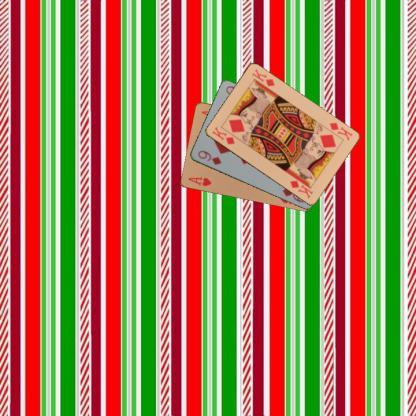9d: (195, 148, 223, 166)
Ah: (186, 174, 212, 188)
Kd: (326, 119, 354, 142), (209, 124, 236, 146)
